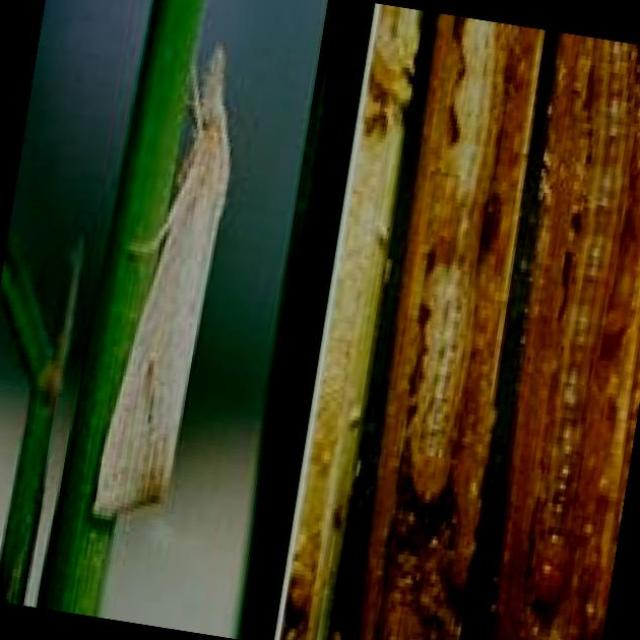stem borer: (360, 15, 542, 640), (495, 35, 640, 640), (283, 5, 420, 640), (101, 49, 230, 511)
